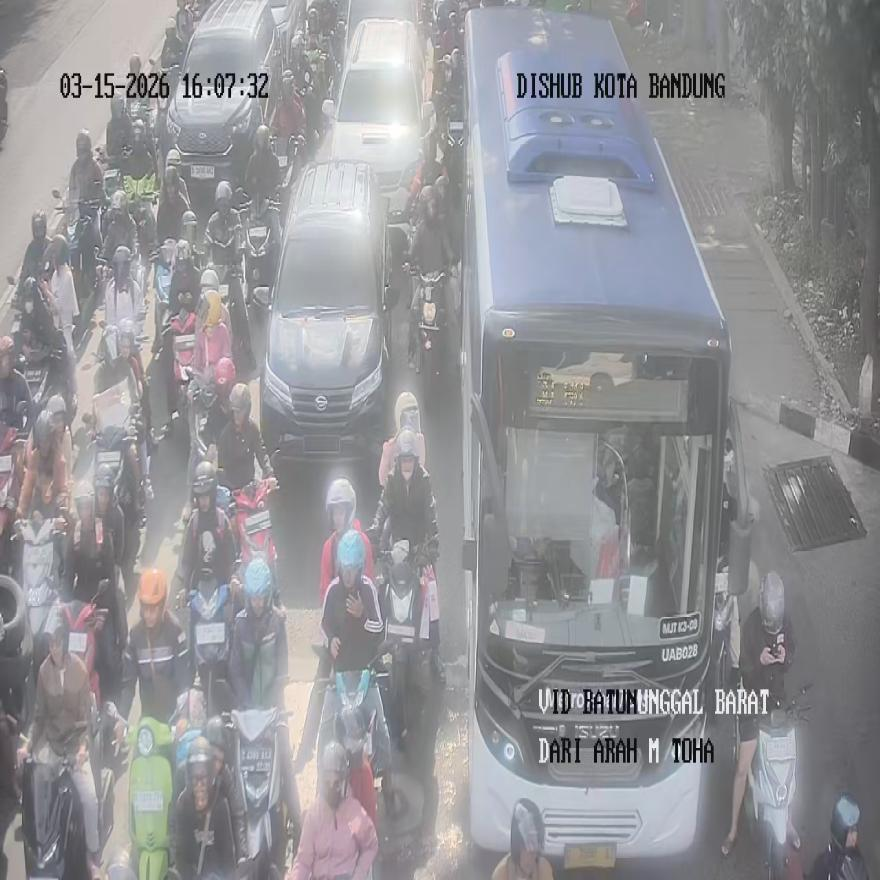Motor: (257, 158, 393, 462), (162, 0, 278, 209), (325, 16, 431, 227)
